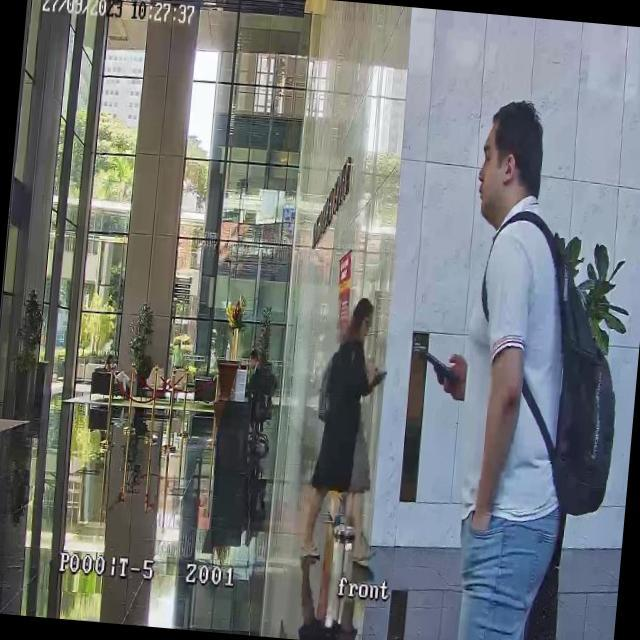person: (422, 96, 602, 640), (298, 292, 393, 564), (242, 346, 269, 418)
